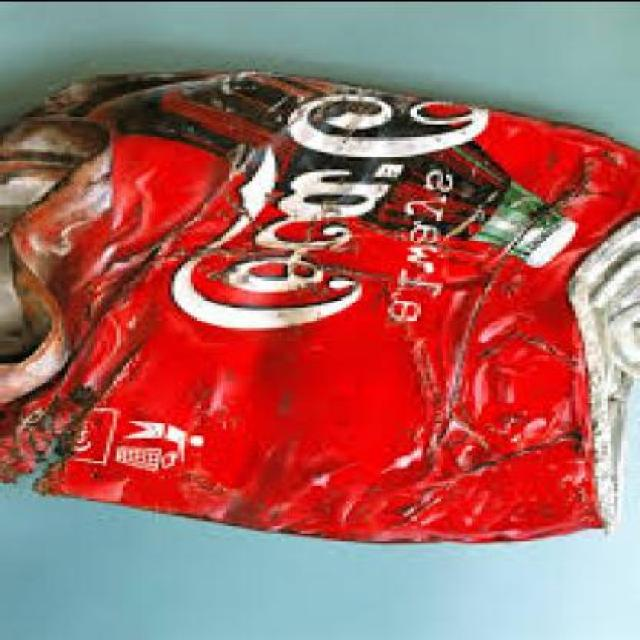METAL: (3, 72, 639, 545)
